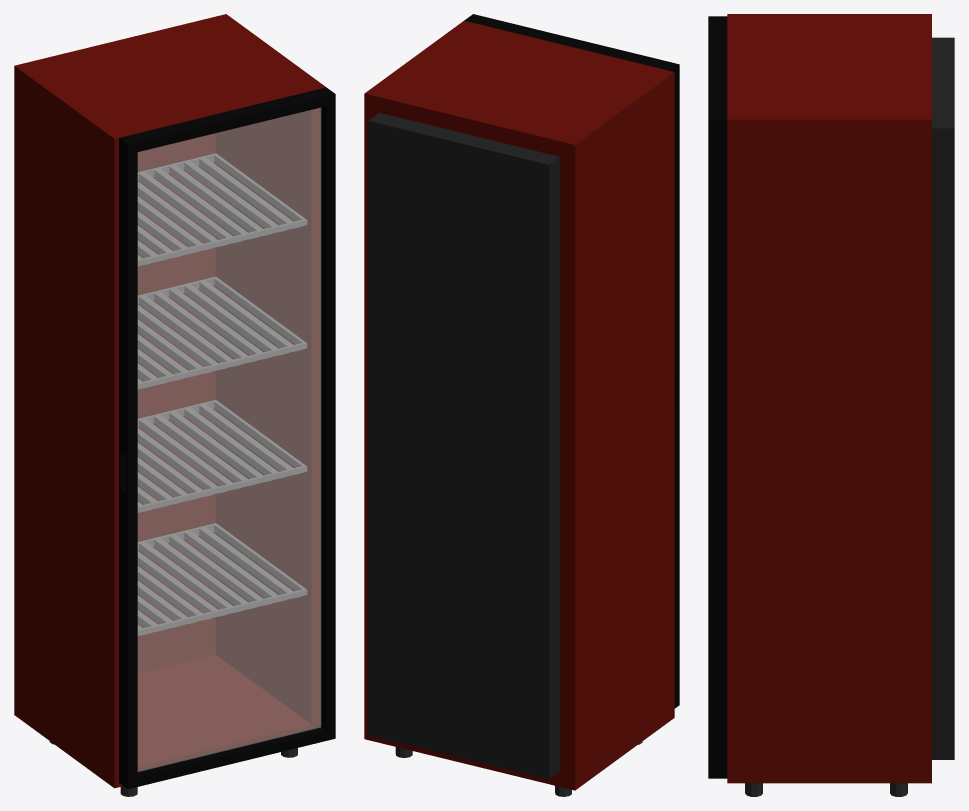
The model's file is BeverageCabinet.fbx.
3 renders of one model, left to right at view 1: azimuth 30°, elevation 25°; view 2: azimuth 150°, elevation 25°; view 3: azimuth 270°, elevation 25°, orthographic. The views are drawn at different scales.
Parts seen in each view (by area): view 1: BeverageCabinet, CabinetDoor, Grill_4, Grill_1, Grill_3, Grill_2; view 2: BeverageCabinet, CabinetDoor; view 3: BeverageCabinet, CabinetDoor.
Boxes of the visible parts, bbox=[...] form: BeverageCabinet: bbox=[14, 14, 325, 796]; CabinetDoor: bbox=[119, 87, 335, 789]; Grill_4: bbox=[137, 523, 307, 635]; Grill_1: bbox=[137, 153, 307, 266]; Grill_3: bbox=[137, 400, 307, 512]; Grill_2: bbox=[137, 276, 307, 389]; BeverageCabinet: bbox=[364, 20, 674, 796]; CabinetDoor: bbox=[464, 14, 679, 708]; BeverageCabinet: bbox=[727, 14, 954, 796]; CabinetDoor: bbox=[708, 16, 727, 778].
Size of the model in its own units: 244 by 240 by 739.
